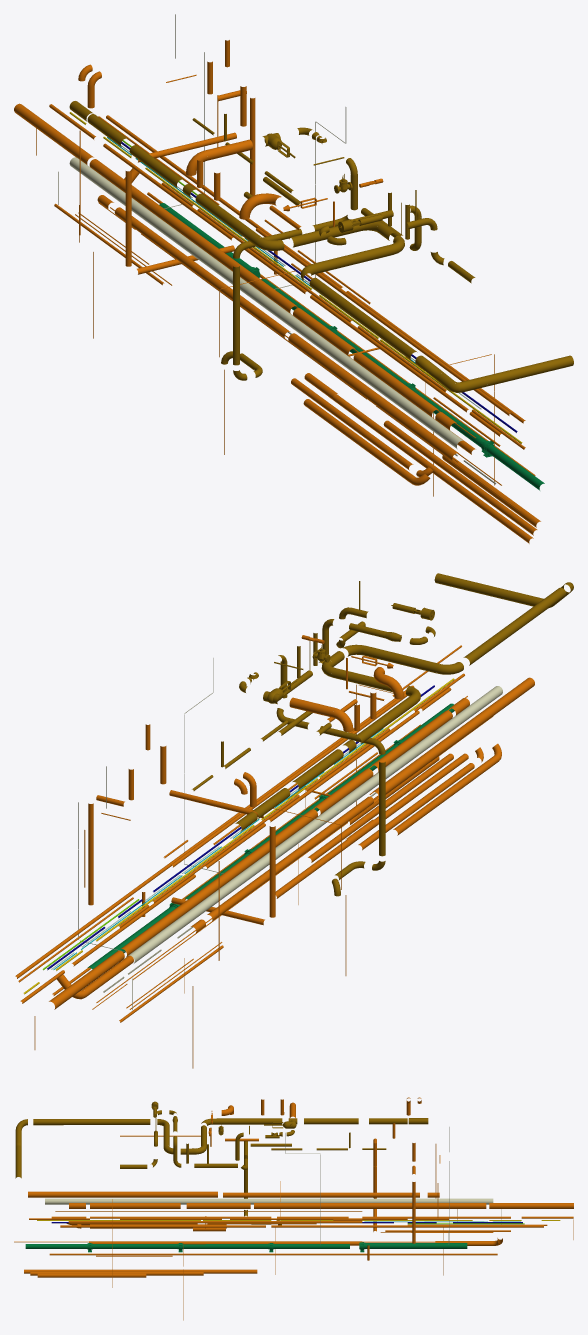
The picture shows the model from 3 angles, top to bottom: view 1: azimuth 30°, elevation 25°; view 2: azimuth 150°, elevation 25°; view 3: azimuth 270°, elevation 25°; orthographic projection. The views are drawn at different scales.
Size of the model in its own units: 11.48 by 21.16 by 55.52.
